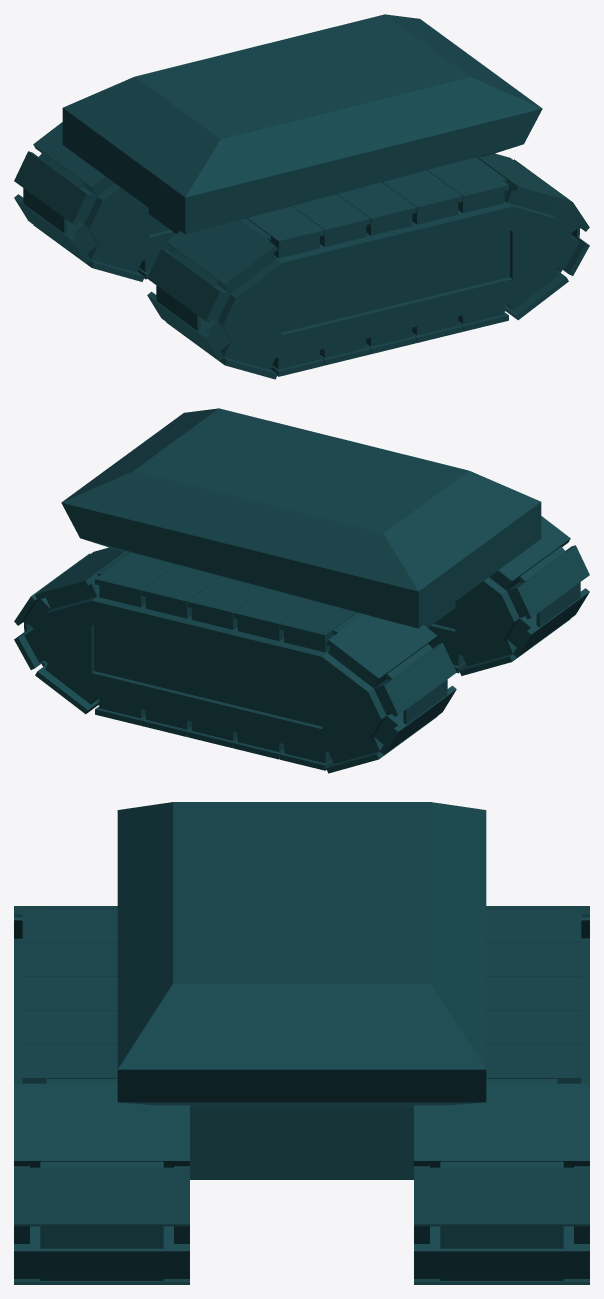
3 views of the same model, one above another, from view 1: azimuth 30°, elevation 25°; view 2: azimuth 150°, elevation 25°; view 3: azimuth 270°, elevation 25° (orthographic). The views are drawn at different scales.
Visible parts, largest first — view 1: Cube, Cube.002, Cube.001; view 2: Cube, Cube.001, Cube.002; view 3: Cube, Cube.002, Cube.001.
Boxes of the visible parts, bbox=[...] form: Cube: bbox=[62, 14, 542, 234]; Cube.002: bbox=[147, 153, 589, 379]; Cube.001: bbox=[14, 122, 175, 281]; Cube: bbox=[61, 408, 541, 628]; Cube.001: bbox=[14, 547, 456, 773]; Cube.002: bbox=[428, 516, 589, 675]; Cube: bbox=[117, 802, 486, 1179]; Cube.002: bbox=[14, 906, 189, 1284]; Cube.001: bbox=[414, 906, 589, 1284].
Bounding box in the file's own units: 83.35 × 42.27 × 72.
